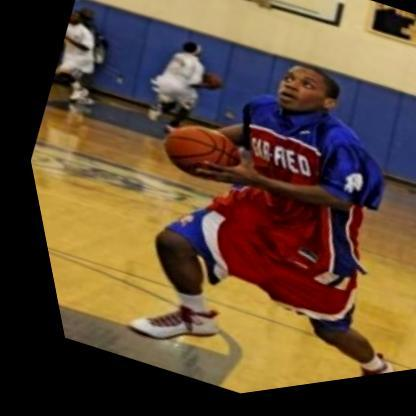basketball: (141, 110, 244, 204)
